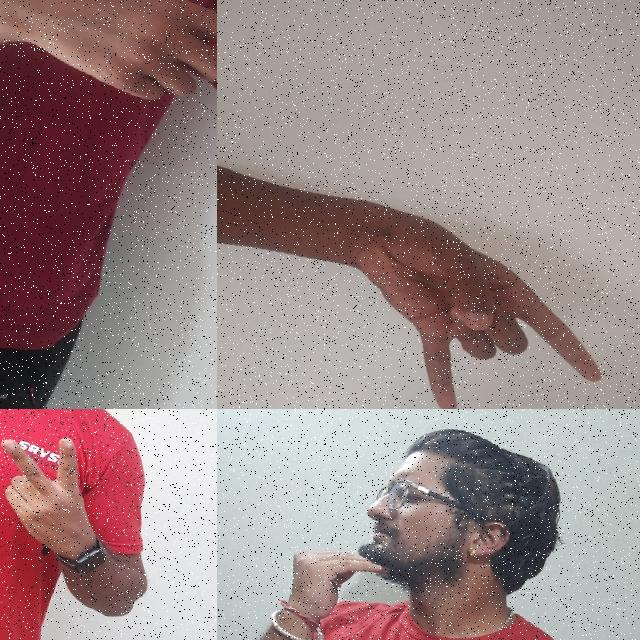Chin Flick: (268, 409, 548, 640)
Corna: (275, 189, 637, 409)
Five Fathers: (4, 0, 217, 202)
Reversed Victory: (0, 409, 127, 574)
